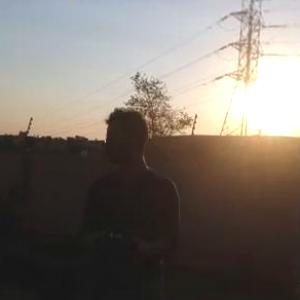follow: (72, 103, 185, 299)
